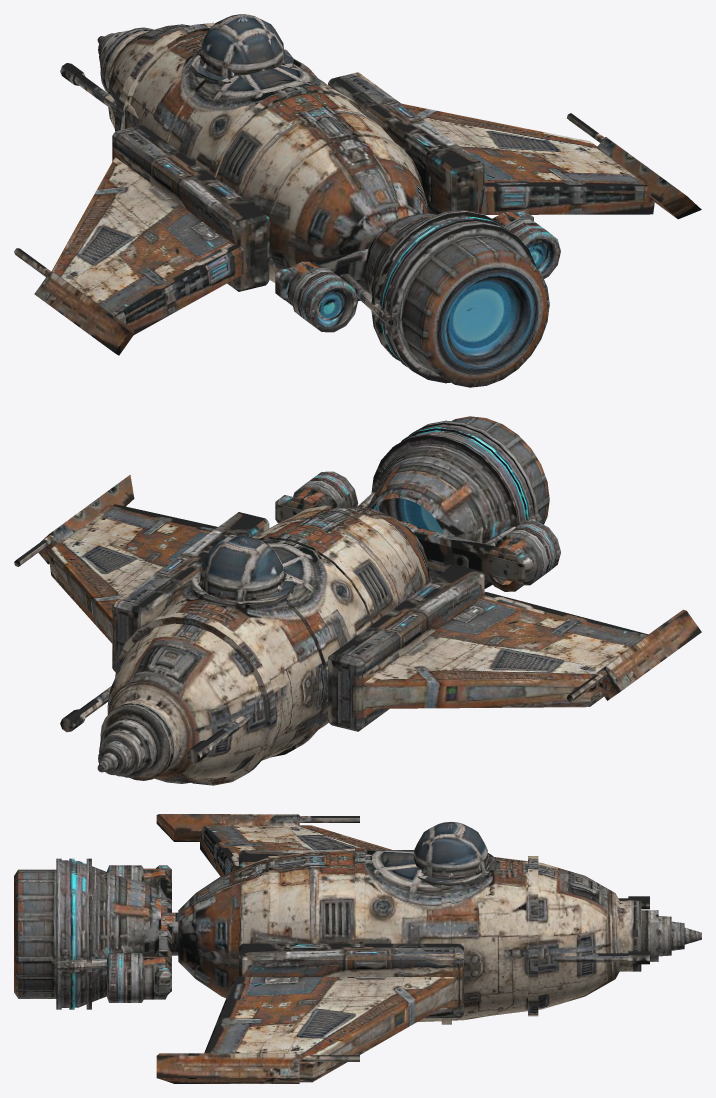
The model's file is scrapper-d.glb.
3 views of the same model, one above another, from view 1: azimuth 30°, elevation 25°; view 2: azimuth 150°, elevation 25°; view 3: azimuth 270°, elevation 25° (orthographic). The views are drawn at different scales.
Parts seen in each view (by area): view 1: hero_scrapper_wings_d, hero_scrapper_hull_d, hero_scrapper_engines_d, hero_scrapper_cockpit_d; view 2: hero_scrapper_wings_d, hero_scrapper_hull_d, hero_scrapper_engines_d, hero_scrapper_cockpit_d; view 3: hero_scrapper_hull_d, hero_scrapper_wings_d, hero_scrapper_engines_d, hero_scrapper_cockpit_d.
Part boxes in pixels (bbox=[...]): hero_scrapper_wings_d: bbox=[14, 72, 701, 355]; hero_scrapper_hull_d: bbox=[60, 22, 429, 300]; hero_scrapper_engines_d: bbox=[275, 210, 560, 387]; hero_scrapper_cockpit_d: bbox=[191, 14, 293, 84]; hero_scrapper_wings_d: bbox=[14, 475, 701, 731]; hero_scrapper_hull_d: bbox=[60, 505, 430, 785]; hero_scrapper_engines_d: bbox=[275, 416, 560, 591]; hero_scrapper_cockpit_d: bbox=[191, 536, 293, 610]; hero_scrapper_hull_d: bbox=[178, 847, 701, 1024]; hero_scrapper_wings_d: bbox=[156, 814, 463, 1083]; hero_scrapper_engines_d: bbox=[14, 858, 178, 1009]; hero_scrapper_cockpit_d: bbox=[413, 822, 496, 890].
Size of the model in its own units: 1.39 by 0.4912 by 1.59.
Materials: 1 (1 with a texture image).
